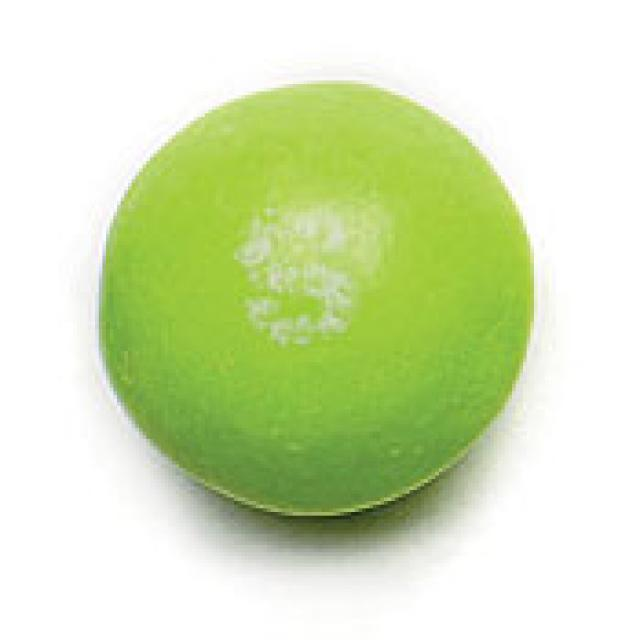smartie: (102, 88, 534, 519)
